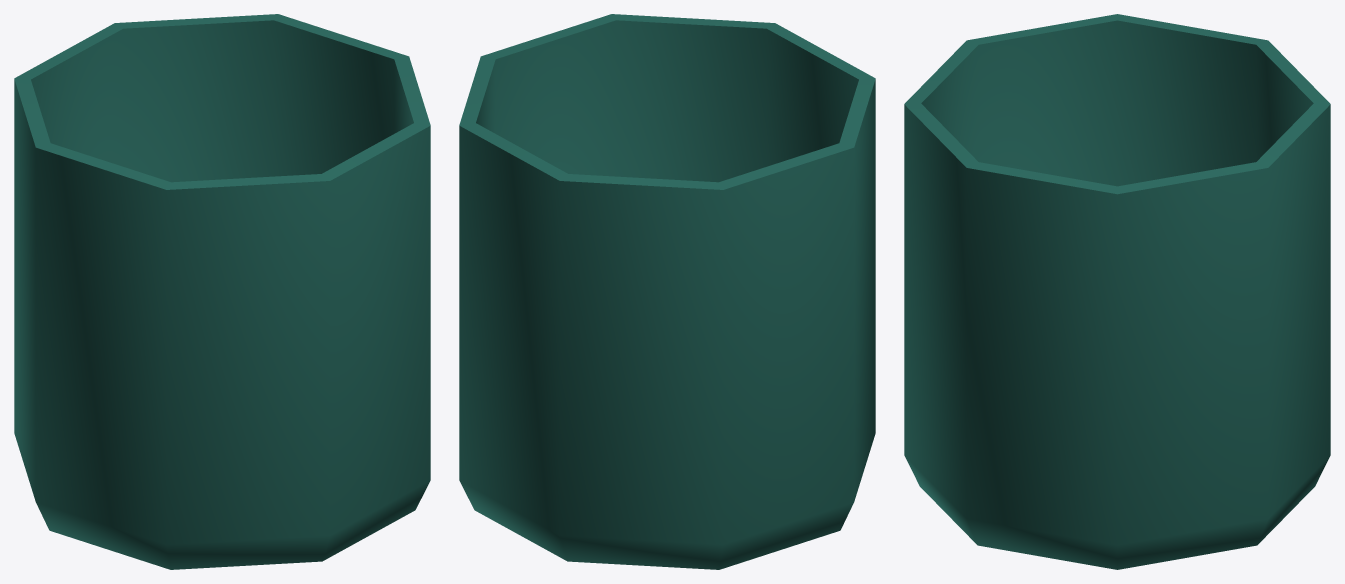
File: SM_glassware_02.fbx
3 views of the same model, side by side, from view 1: azimuth 30°, elevation 25°; view 2: azimuth 150°, elevation 25°; view 3: azimuth 270°, elevation 25° (orthographic).
Parts seen in each view (by area): view 1: glassware_02; view 2: glassware_02; view 3: glassware_02.
Boxes of the visible parts, left/top/right/bottom form: glassware_02: left=14, top=14, right=430, bottom=569; glassware_02: left=459, top=14, right=875, bottom=569; glassware_02: left=904, top=14, right=1330, bottom=569.
Bounding box in the file's own units: 15.29 × 15.66 × 15.29.
